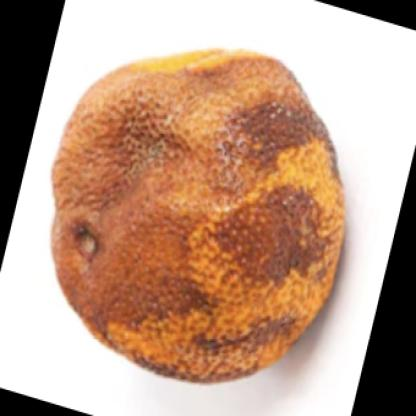rotten: (47, 46, 342, 384)
